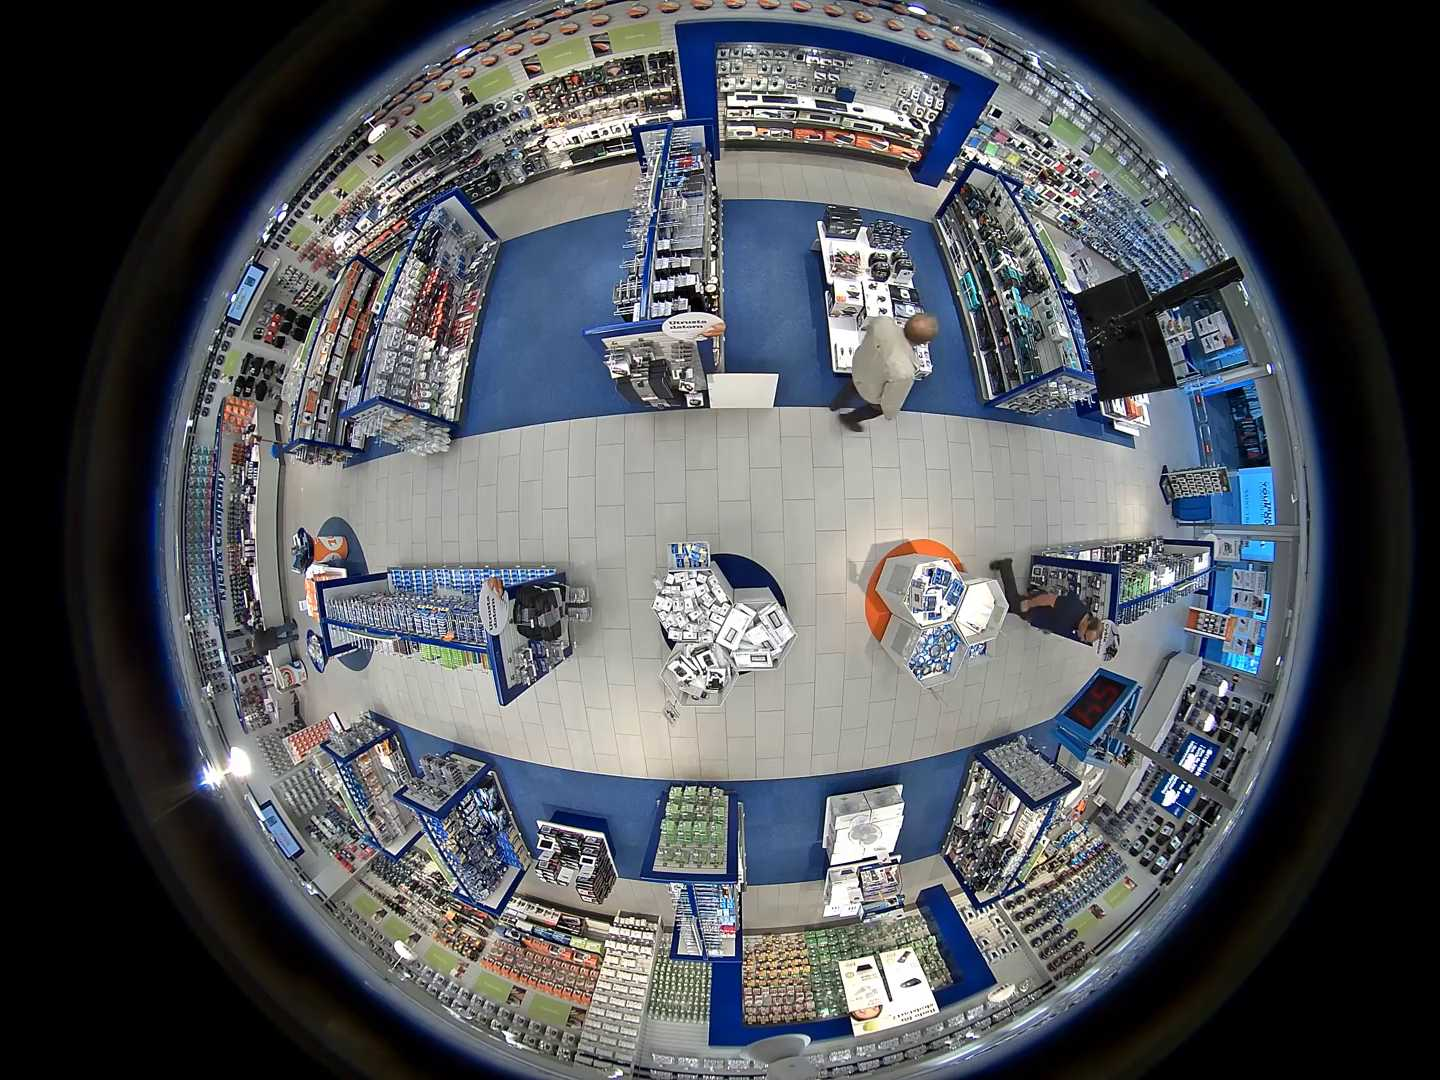person: (829, 312, 939, 433), (989, 557, 1103, 643), (246, 617, 299, 657), (236, 608, 254, 632)
